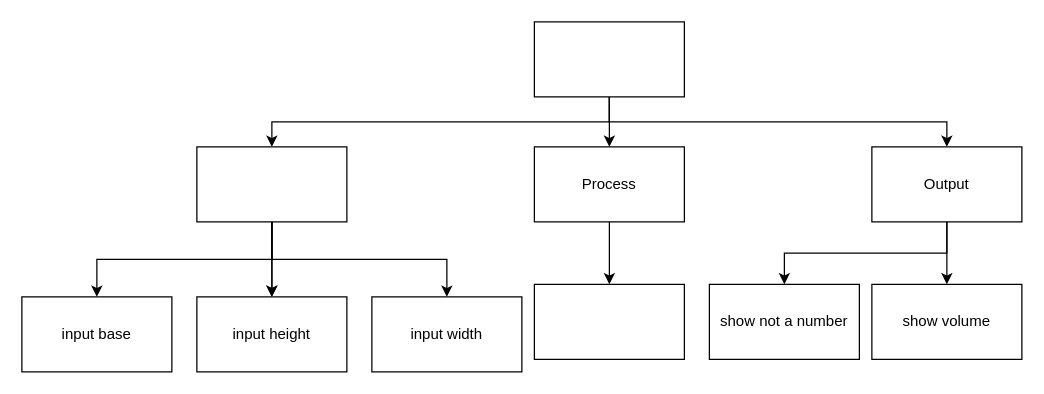
The diagram is 1044 pixels wide and 394 high, and some of its shapes have lost their labels. The shapes that lost their labels are listed below. From the top down, each one's box as (x1, y1, x2, y2) in pixels, then its label:
(533, 21, 684, 97): volume
(196, 146, 347, 222): Input
(533, 283, 684, 359): volume = 1/2 * height * base * length
